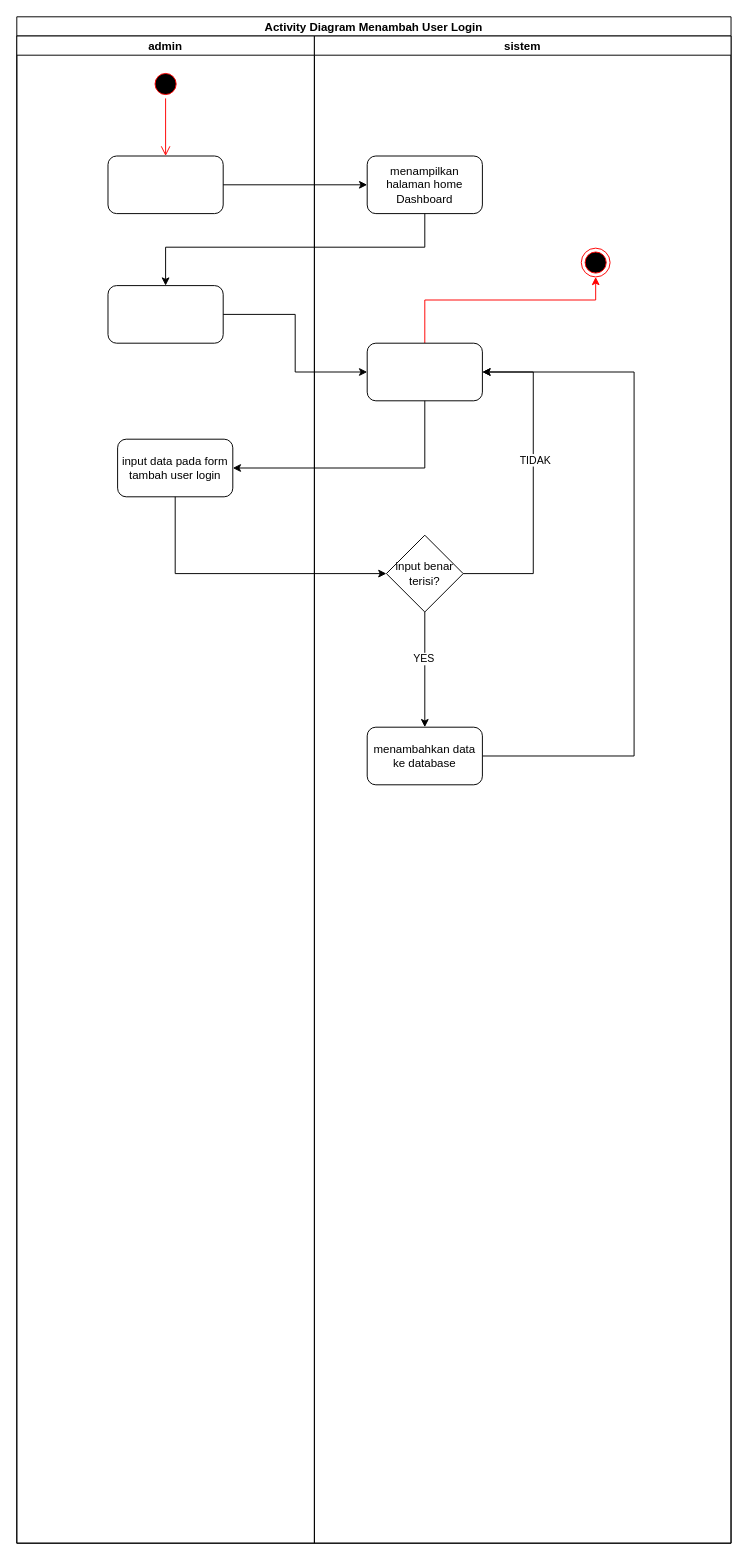
Image size: 748x1560. Some labels were removed from this diagram. Each missing label, with the centre of its shape:
klik menu "Administrator" pilh "Kelola Users": [165,314]
Login: [165,184]
menampilkan halaman daftar data akun users login: [424,371]
